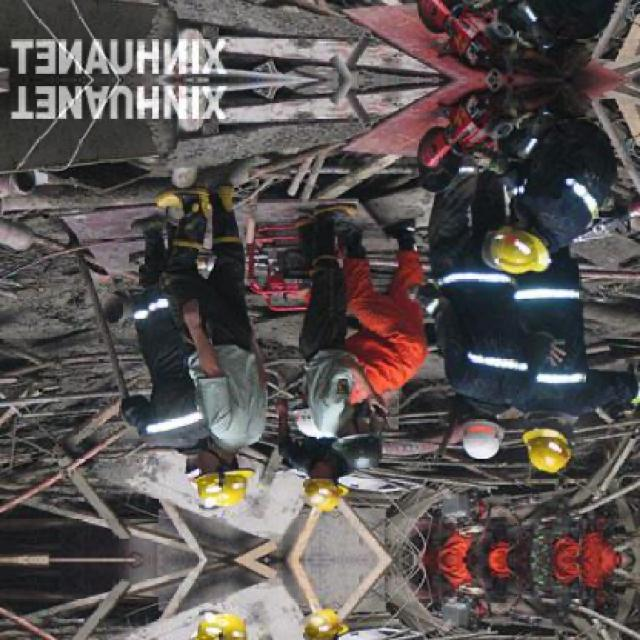con casco: (473, 216, 578, 282), (405, 415, 516, 468), (304, 453, 389, 509), (323, 406, 389, 476), (183, 469, 280, 497), (523, 430, 576, 463)
